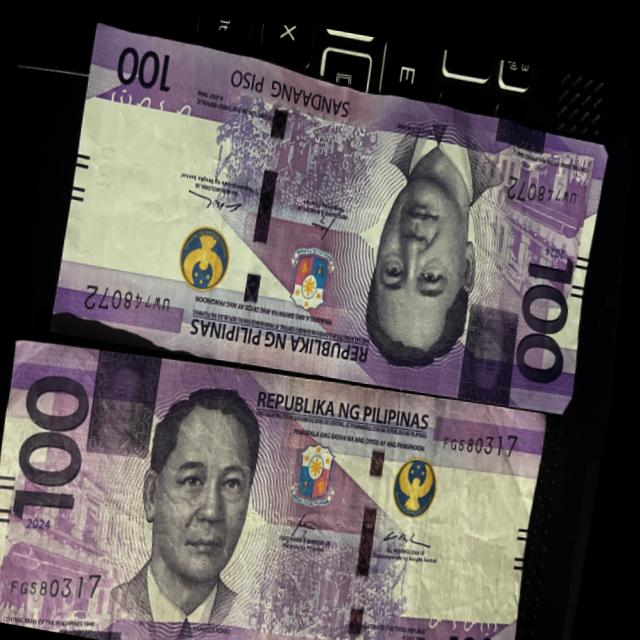concealed_value: (90, 342, 171, 464), (460, 292, 527, 401)
security_thread: (231, 67, 297, 392), (342, 381, 408, 640)
serial_number: (65, 267, 187, 330), (8, 550, 119, 615), (436, 405, 532, 463), (494, 159, 587, 206)
value: (15, 365, 104, 528), (508, 227, 586, 378)
value_watermark: (93, 135, 126, 199)
watermark: (85, 94, 203, 281), (416, 445, 529, 623)
